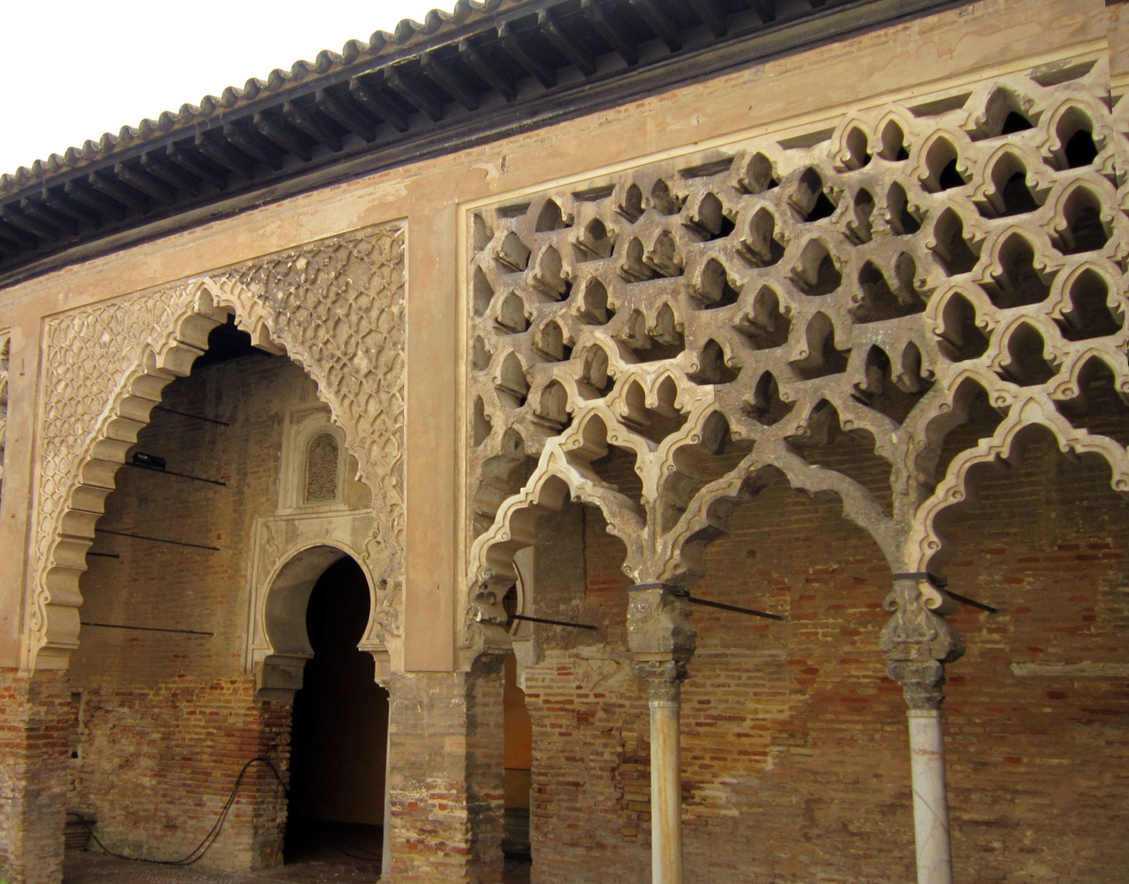arco-herradura: (248, 533, 398, 704)
arco-lobulado: (662, 450, 925, 720), (912, 398, 1129, 664), (460, 449, 665, 705)
